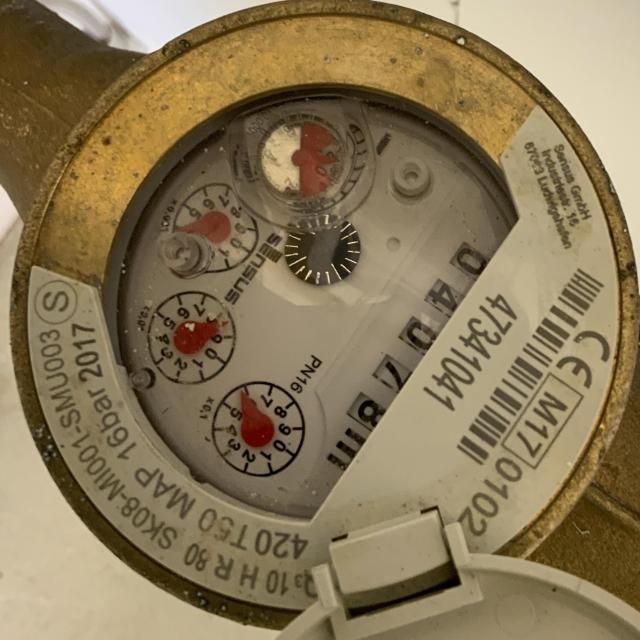gaz_meter: (8, 12, 625, 632)
indication: (315, 202, 501, 454)
